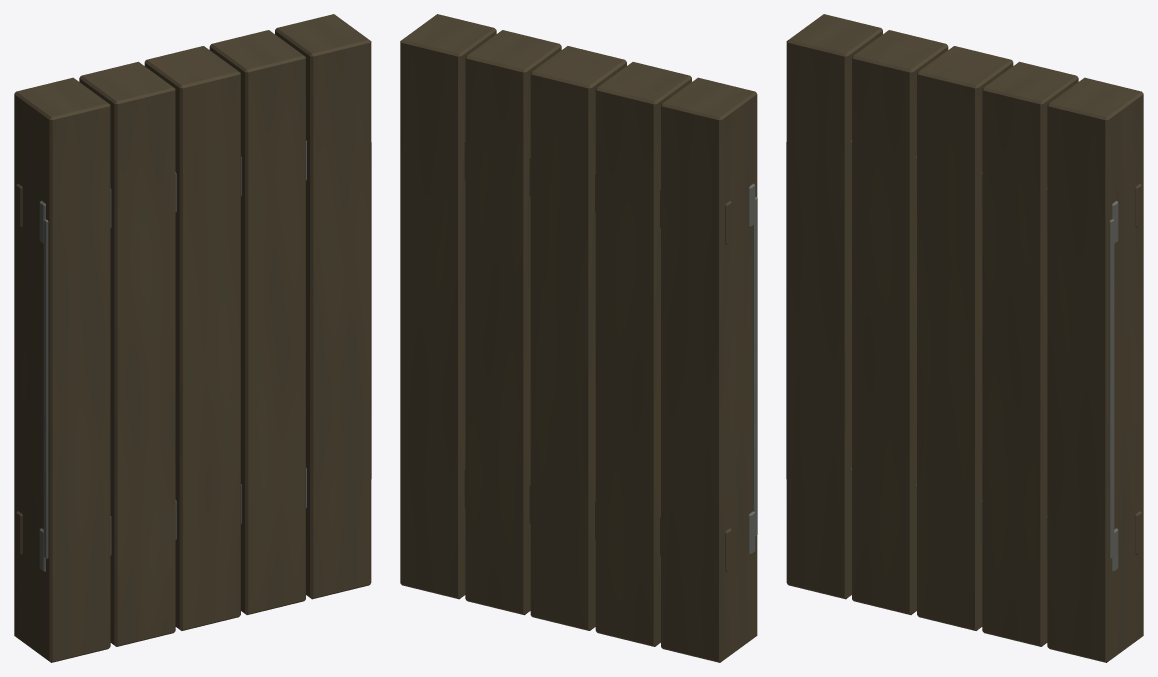
File: WarrensC_WVC063_WindowShutter_Mars_SM.fbx
3 views of the same model, side by side, from view 1: azimuth 30°, elevation 25°; view 2: azimuth 150°, elevation 25°; view 3: azimuth 330°, elevation 25° (orthographic).
Visible parts, largest first — view 1: WarrensC_WVC063_WindowShutter_Mars_SM.001; view 2: WarrensC_WVC063_WindowShutter_Mars_SM.001; view 3: WarrensC_WVC063_WindowShutter_Mars_SM.001.
Boxes of the visible parts, x1=… form: WarrensC_WVC063_WindowShutter_Mars_SM.001: x1=14, y1=14, x2=371, y2=662; WarrensC_WVC063_WindowShutter_Mars_SM.001: x1=400, y1=14, x2=757, y2=662; WarrensC_WVC063_WindowShutter_Mars_SM.001: x1=786, y1=14, x2=1143, y2=662.
Size of the model in its own units: 100 by 20 by 160.
